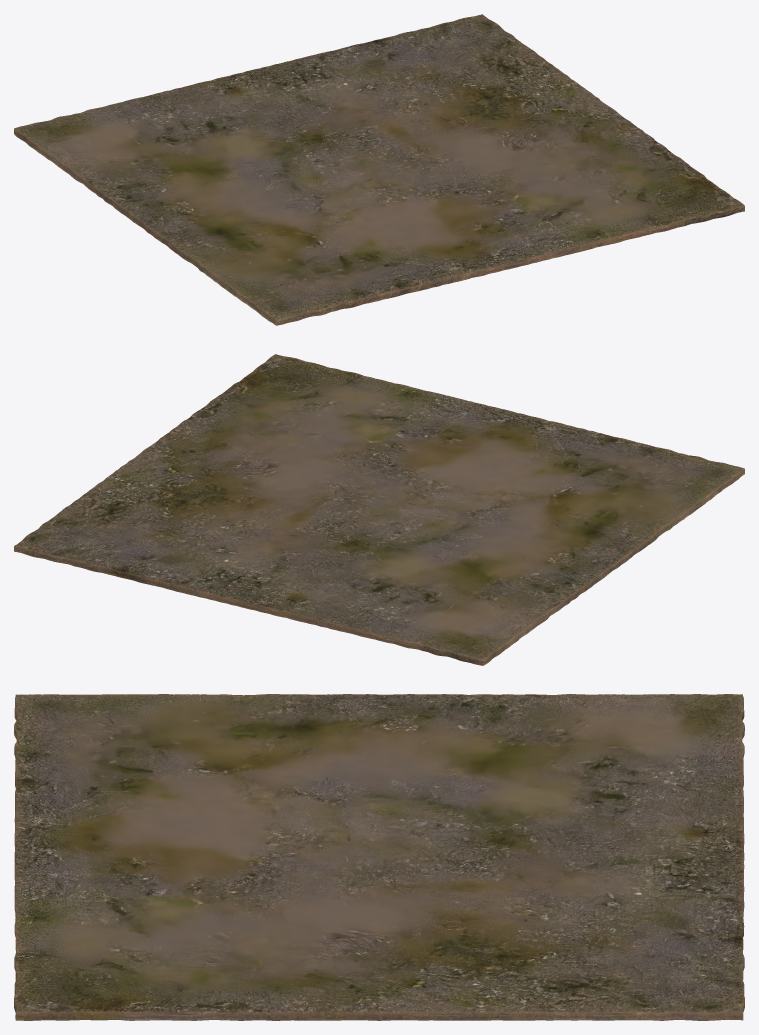
File: Ground.glb
3 renders of one model, top to bottom at view 1: azimuth 30°, elevation 25°; view 2: azimuth 150°, elevation 25°; view 3: azimuth 270°, elevation 25°, orthographic. The views are drawn at different scales.
Visible parts, largest first — view 1: Mesh_0; view 2: Mesh_0; view 3: Mesh_0.
Part boxes in pixels (x1,y1,x2,y2): Mesh_0: (14, 14, 744, 325); Mesh_0: (14, 354, 744, 665); Mesh_0: (14, 694, 744, 1020).
Bounding box in the file's own units: 1.9 × 0.0235 × 1.84.
1 material, 1 textured.
